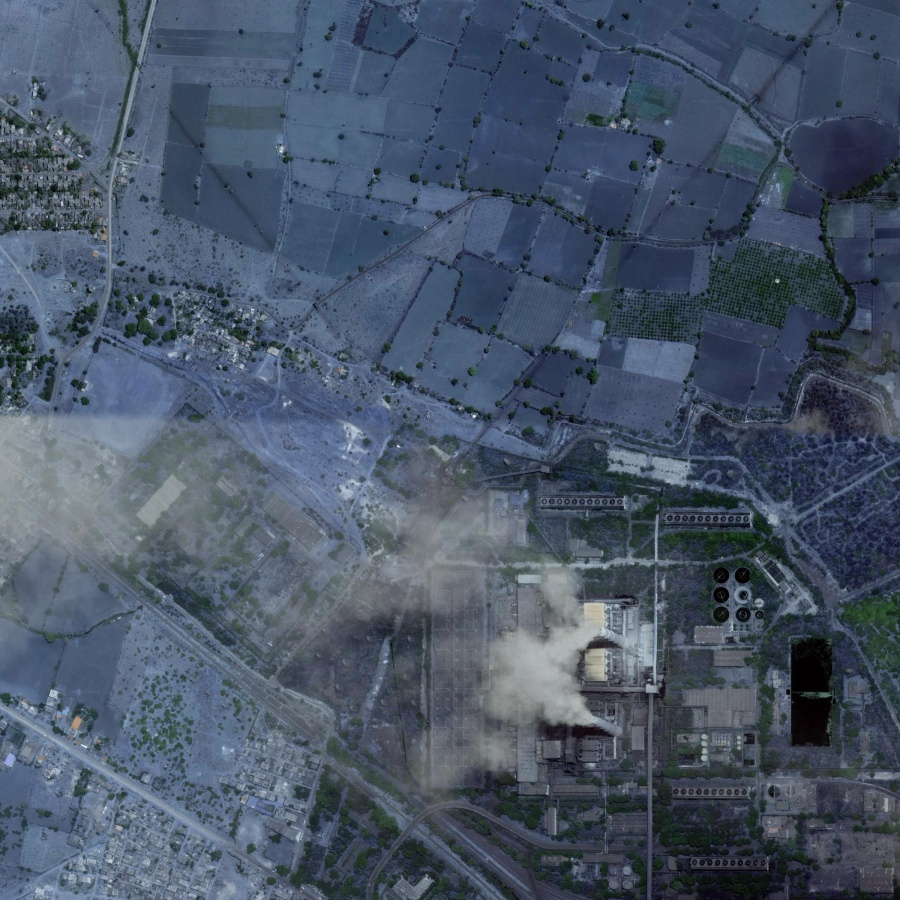PowerPlant: (433, 487, 705, 807)
